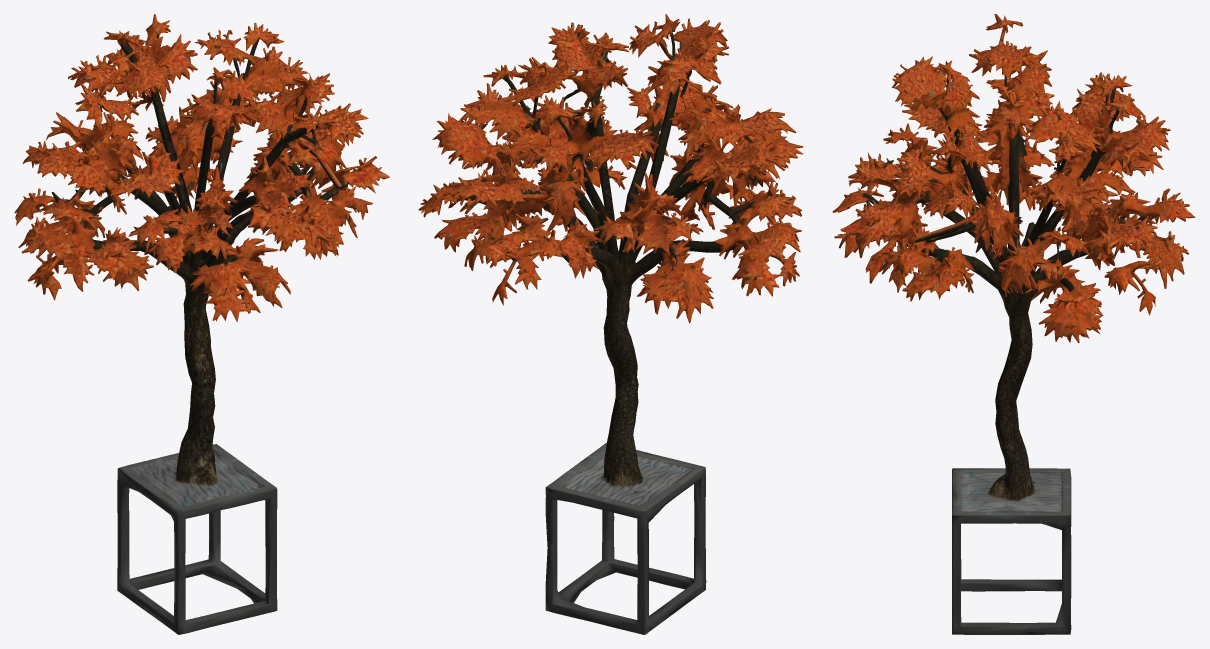
File: plant-vegetation-1.glb
3 views of the same model, side by side, from view 1: azimuth 30°, elevation 25°; view 2: azimuth 150°, elevation 25°; view 3: azimuth 270°, elevation 25° (orthographic). The views are drawn at different scales.
Visible parts, largest first — view 1: tripo_node_cdbbe9dc-4532-4dae-860b-ab6bfa1d443c; view 2: tripo_node_cdbbe9dc-4532-4dae-860b-ab6bfa1d443c; view 3: tripo_node_cdbbe9dc-4532-4dae-860b-ab6bfa1d443c.
Boxes of the visible parts, x1,y1,x2,y2 form: tripo_node_cdbbe9dc-4532-4dae-860b-ab6bfa1d443c: [14, 14, 389, 634]; tripo_node_cdbbe9dc-4532-4dae-860b-ab6bfa1d443c: [418, 14, 803, 634]; tripo_node_cdbbe9dc-4532-4dae-860b-ab6bfa1d443c: [832, 14, 1195, 634].
Bounding box in the file's own units: 1.01 × 1.6 × 0.9462.
Materials: 1 (1 with a texture image).
